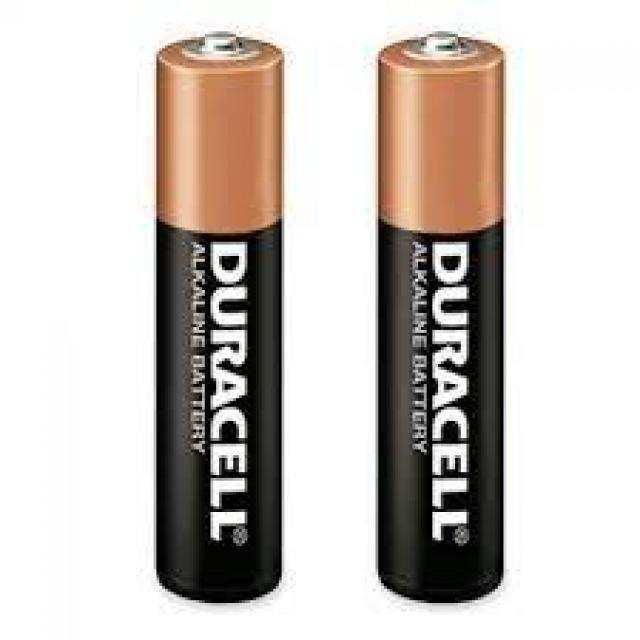hazardous waste: (148, 29, 308, 610), (374, 29, 511, 609)
